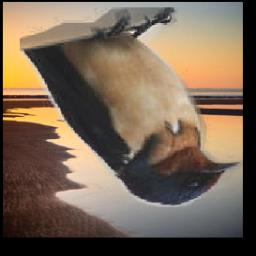Swallow: (20, 8, 243, 208)
